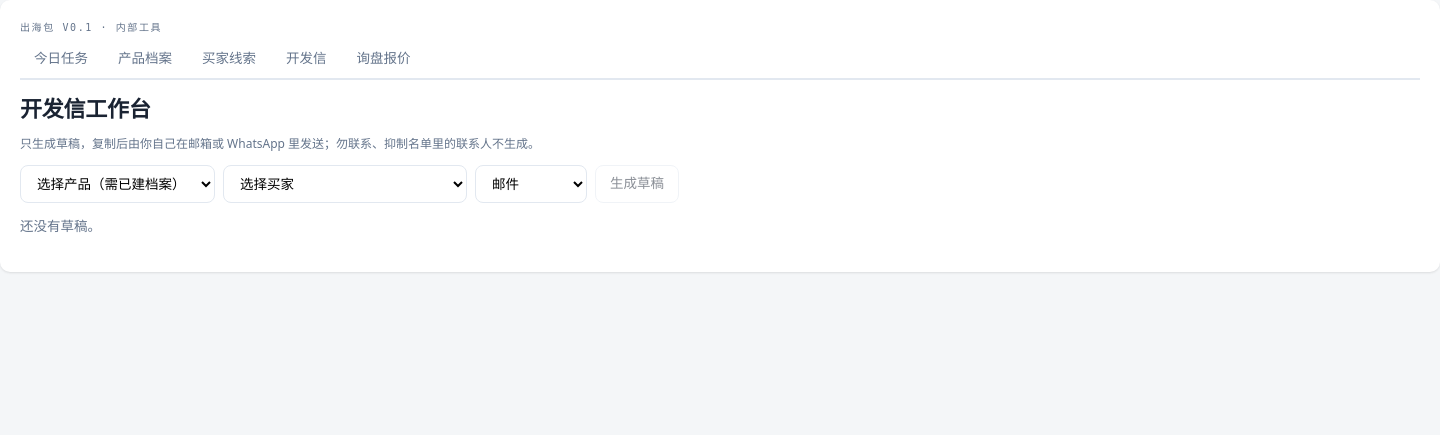
Test: 出海包页面 › 开发信：带上买家首个联系人生成，页面没有发送按钮
Select "Organic Baby Romper" in the dropdown named "产品": (118, 184) [20,165,215,203]
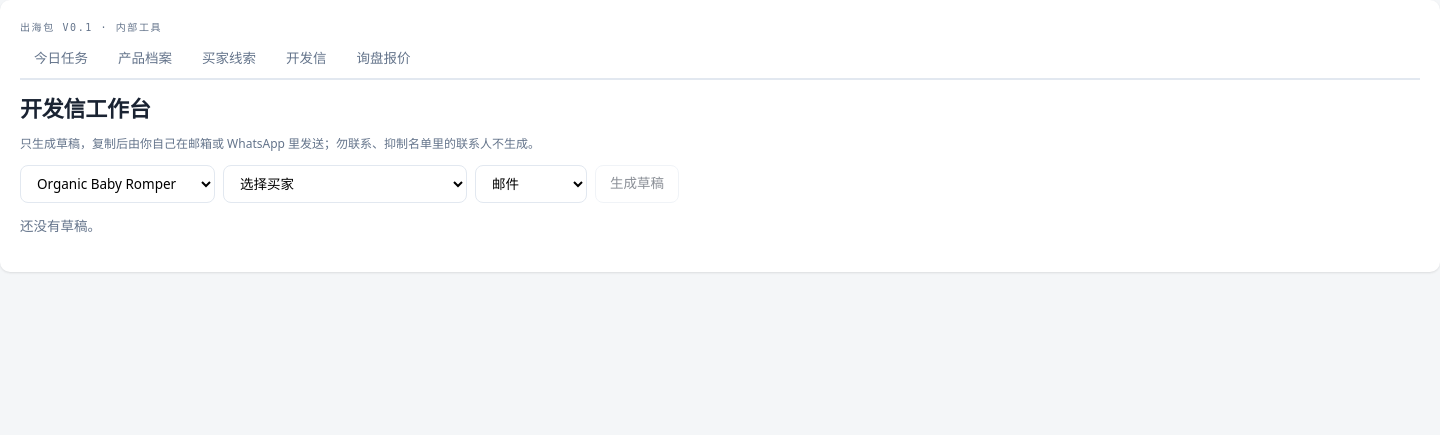
Select "Tiny Kids Trading 01 LLC（US）" in the dropdown named "买家": (345, 184) [223,165,467,203]
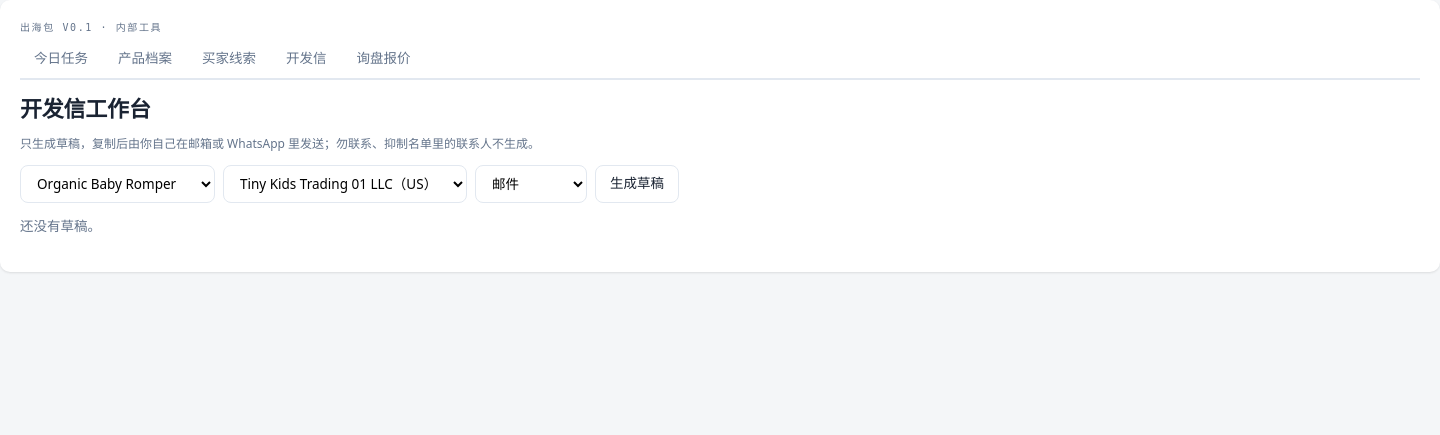
Click the button "生成草稿": (637, 184) [595,165,679,203]
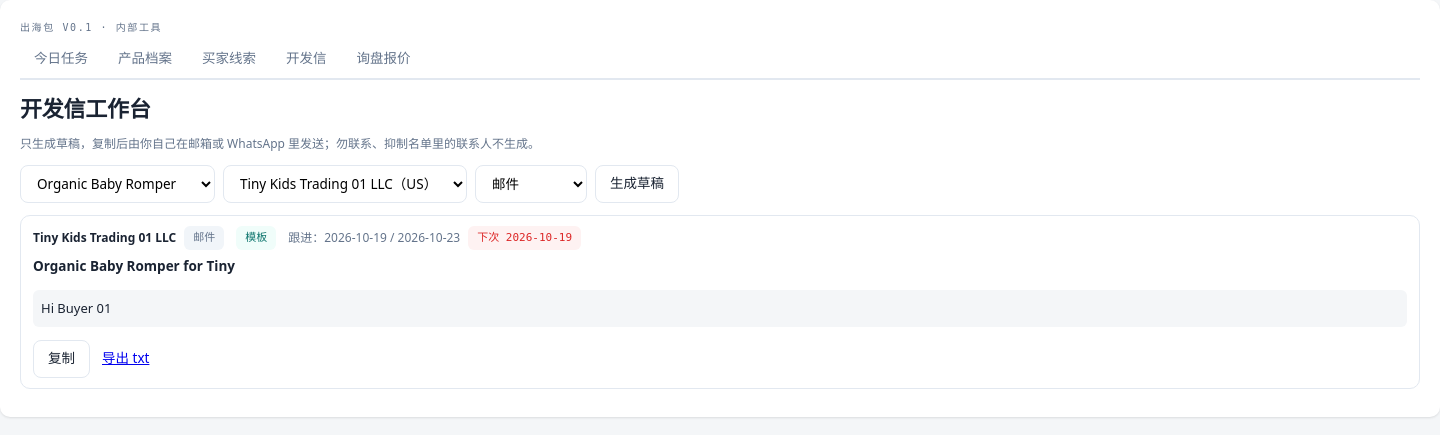
Expected: the element with test id "kit-draft-5" shows "下次 2026-10-19", [477,231,572,244]
